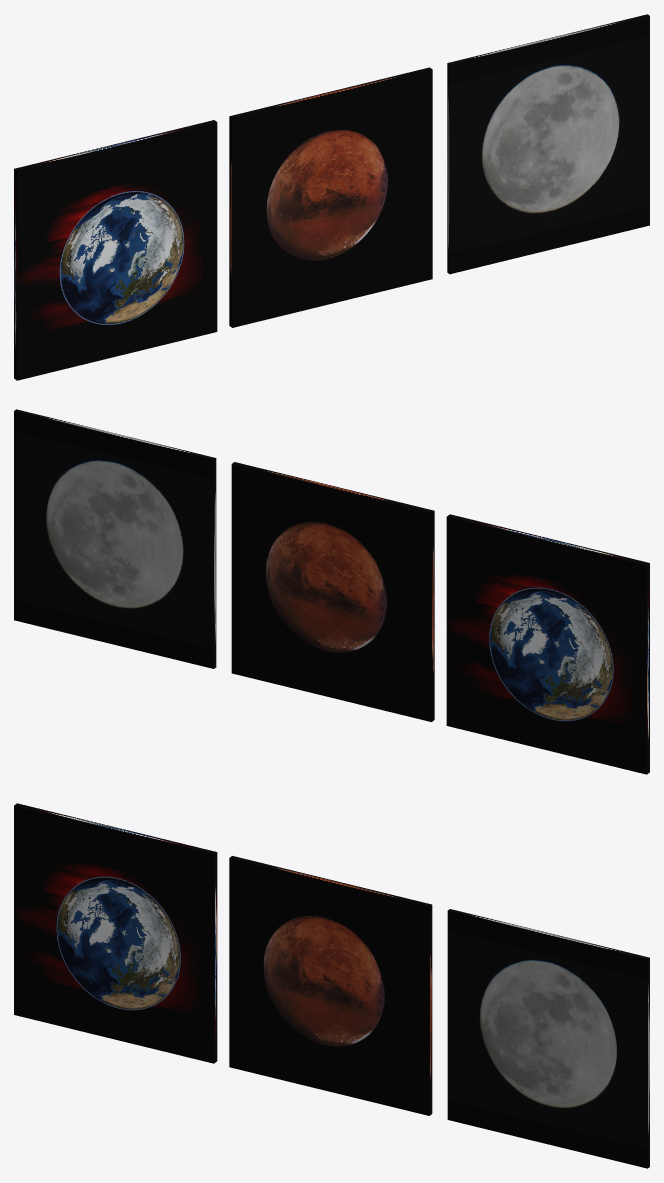
File: wallArt02.FBX
The picture shows the model from 3 angles, top to bottom: view 1: azimuth 30°, elevation 25°; view 2: azimuth 150°, elevation 25°; view 3: azimuth 330°, elevation 25°; orthographic projection.
Parts seen in each view (by area): view 1: Box001, Box002, Box003; view 2: Box001, Box002, Box003; view 3: Box001, Box002, Box003.
Part boxes in pixels (left/top/right/bottom): Box001: left=14, top=120, right=217, bottom=380; Box002: left=229, top=67, right=432, bottom=327; Box003: left=447, top=14, right=649, bottom=274; Box001: left=446, top=514, right=649, bottom=774; Box002: left=231, top=462, right=434, bottom=721; Box003: left=14, top=409, right=216, bottom=668; Box001: left=14, top=803, right=217, bottom=1063; Box002: left=229, top=856, right=432, bottom=1115; Box003: left=447, top=909, right=649, bottom=1168.
Bounding box in the file's own units: 31.64 × 10 × 0.2762.
3 materials, 3 textured.
